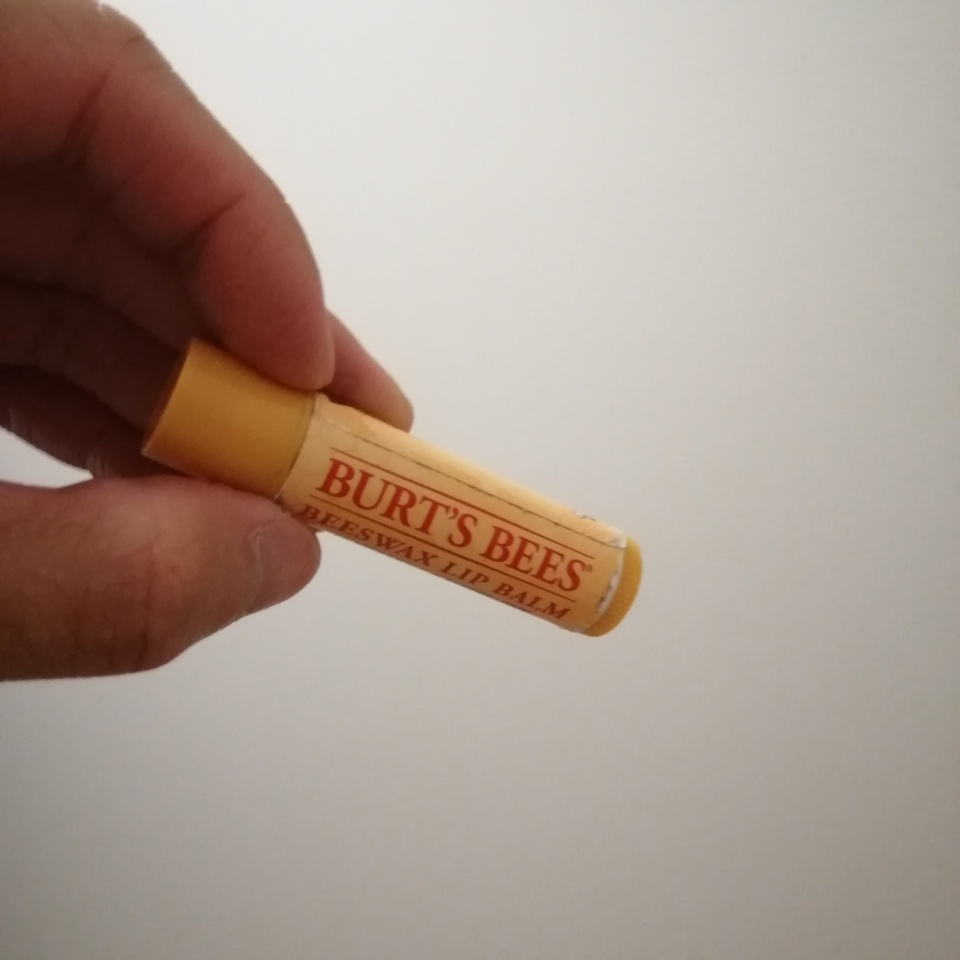chapstick: (134, 336, 643, 636)
